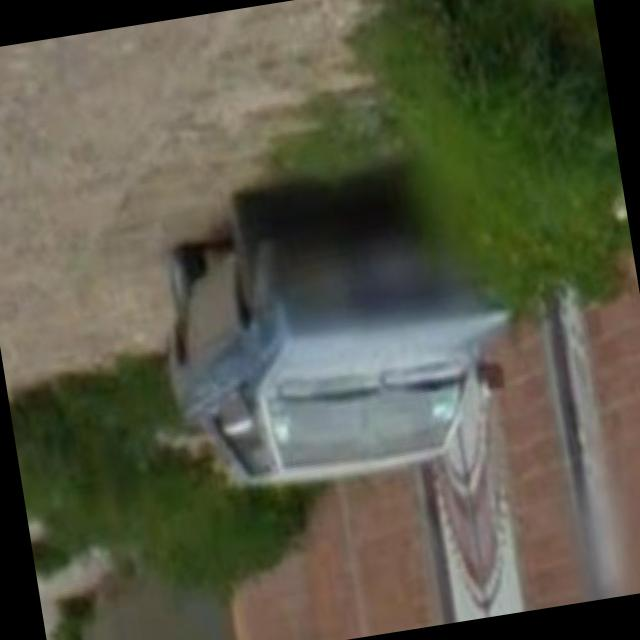car: (142, 150, 531, 526)
